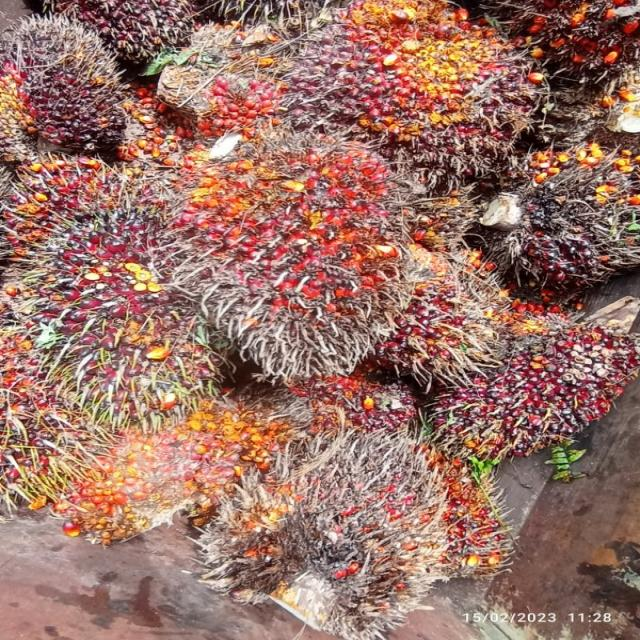fraksi 00: (502, 139, 634, 289)
fraksi 1: (423, 279, 640, 475), (24, 186, 221, 401), (0, 6, 162, 159), (382, 245, 509, 397)
fraksi 3: (298, 0, 540, 186)
fraksi 4: (139, 103, 457, 401), (216, 431, 446, 640), (34, 394, 294, 550), (173, 54, 307, 150)
